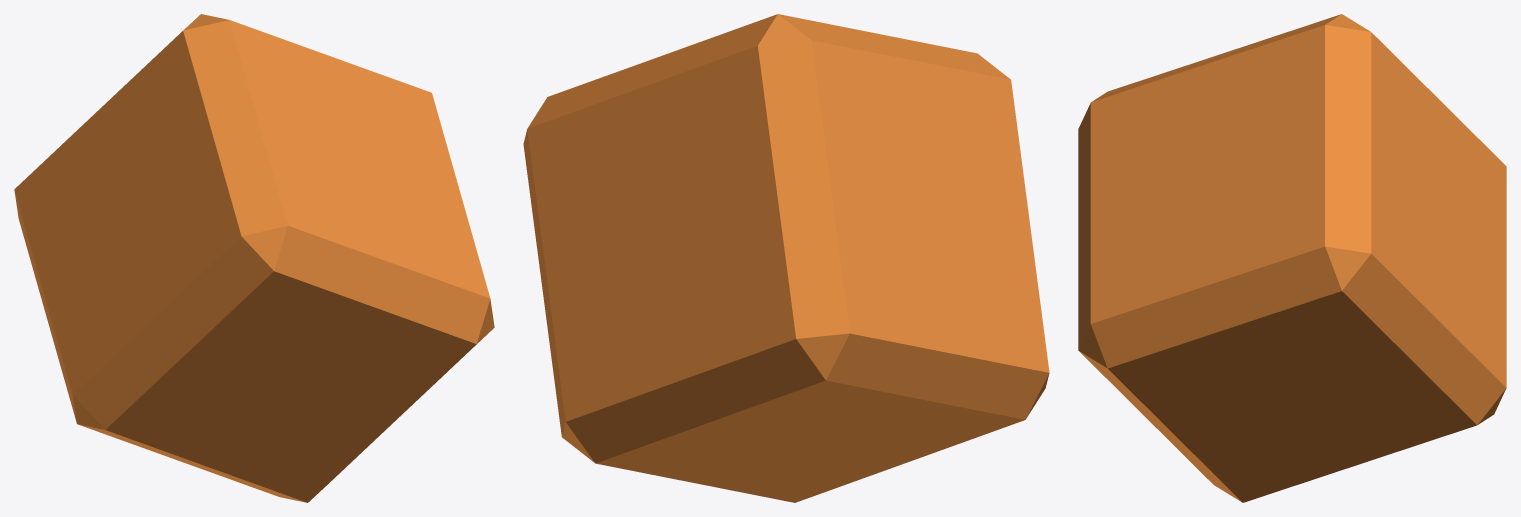
The model's file is drop_caramelo.fbx.
The picture shows the model from 3 angles, left to right: view 1: azimuth 30°, elevation 25°; view 2: azimuth 150°, elevation 25°; view 3: azimuth 270°, elevation 25°; orthographic projection. The views are drawn at different scales.
Parts seen in each view (by area): view 1: Cube; view 2: Cube; view 3: Cube.
Part boxes in pixels (left/top/right/bottom): Cube: left=14, top=14, right=494, bottom=502; Cube: left=523, top=14, right=1049, bottom=502; Cube: left=1078, top=14, right=1506, bottom=502.
Bounding box in the file's own units: 234 × 247 × 209.
